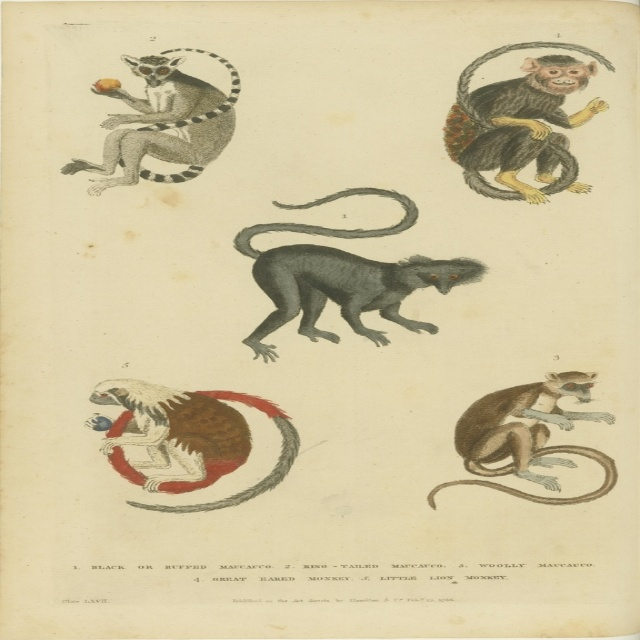Monkey: (243, 184, 488, 363), (84, 380, 298, 515), (424, 367, 617, 515), (446, 42, 619, 202), (57, 49, 243, 196)
